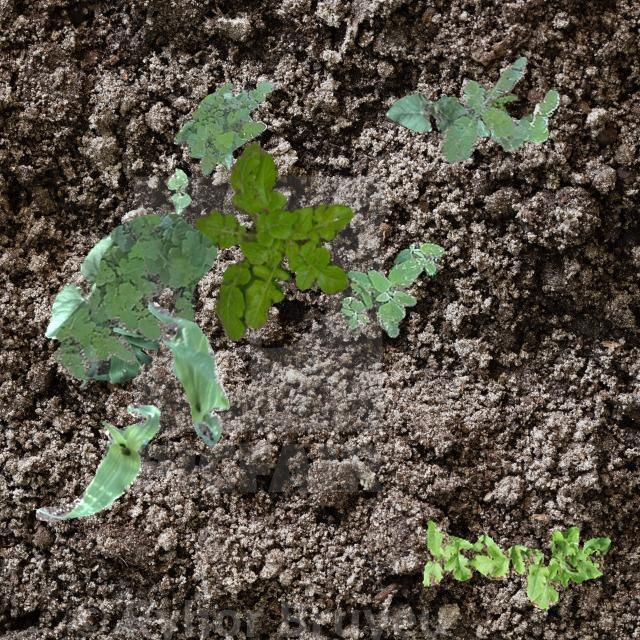crop: (34, 402, 160, 520), (146, 300, 228, 444), (44, 232, 110, 338), (172, 89, 246, 168), (78, 326, 158, 386), (384, 91, 488, 136), (167, 167, 190, 214)
weed: (192, 140, 352, 340), (52, 212, 216, 378), (422, 520, 610, 608), (441, 56, 558, 162), (338, 242, 442, 336), (175, 80, 274, 174), (479, 82, 517, 111)
